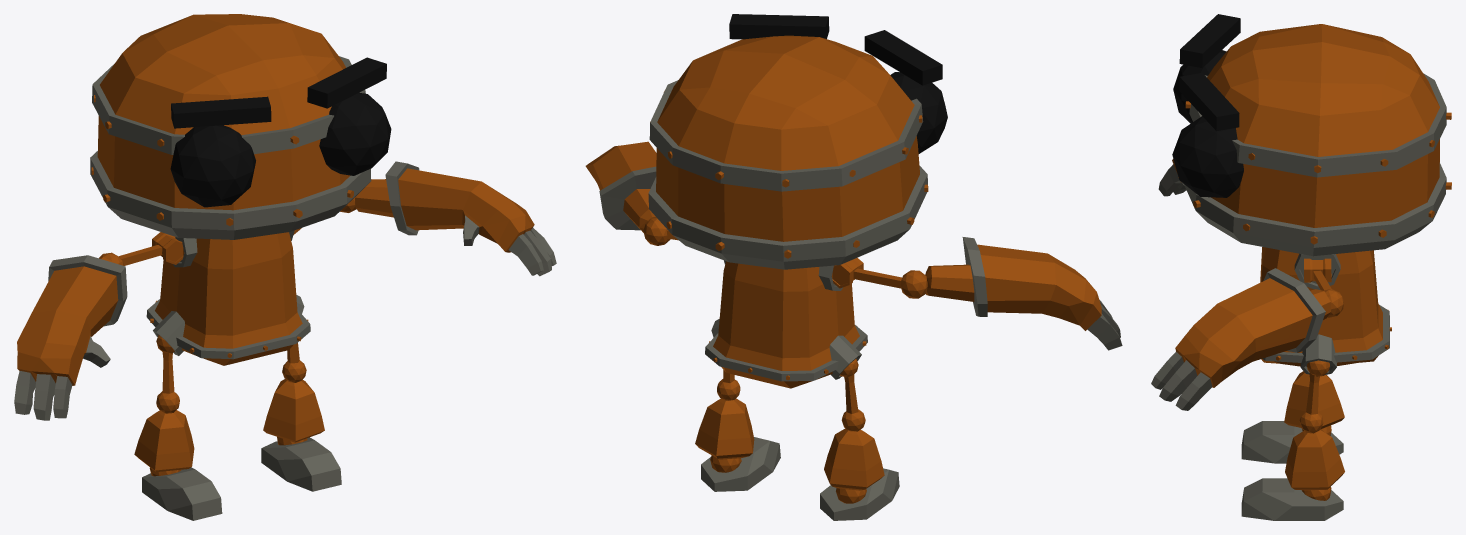
The model's file is rob3.obj.
3 renders of one model, left to right at view 1: azimuth 30°, elevation 25°; view 2: azimuth 150°, elevation 25°; view 3: azimuth 270°, elevation 25°, orthographic.
Visible parts, largest first — view 1: Head, Torso, Hand.R, Hand.L, LowerLeg.R, Foot.L, Foot.R, LowerLeg.L, Leg.R, Shoulder.R, Arm.R, Leg.L; view 2: Head, Torso, Hand.R, Hand.L, LowerLeg.R, LowerLeg.L, Foot.L, Foot.R, Arm.R, Leg.R; view 3: Head, Hand.L, Torso, Foot.L, LowerLeg.L, Foot.R, LowerLeg.R, Leg.L, Arm.L, Hand.R, Shoulder.L.
Part boxes in pixels (bbox=[...]): Head: bbox=[90, 14, 391, 239]; Torso: bbox=[146, 230, 310, 365]; Hand.R: bbox=[14, 255, 127, 420]; Hand.L: bbox=[355, 161, 556, 276]; LowerLeg.R: bbox=[134, 410, 194, 476]; Foot.L: bbox=[261, 437, 341, 491]; Foot.R: bbox=[142, 467, 222, 520]; LowerLeg.L: bbox=[263, 379, 324, 445]; Leg.R: bbox=[156, 352, 179, 413]; Shoulder.R: bbox=[152, 232, 184, 264]; Arm.R: bbox=[99, 245, 162, 265]; Leg.L: bbox=[282, 343, 306, 382]; Head: bbox=[648, 14, 947, 269]; Torso: bbox=[705, 260, 867, 388]; Hand.R: bbox=[925, 237, 1122, 350]; Hand.L: bbox=[585, 141, 656, 232]; LowerLeg.R: bbox=[824, 428, 884, 503]; LowerLeg.L: bbox=[695, 398, 754, 472]; Foot.L: bbox=[701, 437, 780, 491]; Foot.R: bbox=[820, 468, 899, 520]; Arm.R: bbox=[853, 268, 927, 298]; Leg.R: bbox=[841, 374, 865, 431]; Head: bbox=[1172, 14, 1451, 256]; Hand.L: bbox=[1151, 268, 1330, 410]; Torso: bbox=[1260, 247, 1391, 376]; Foot.L: bbox=[1241, 478, 1343, 520]; LowerLeg.L: bbox=[1285, 430, 1344, 500]; Foot.R: bbox=[1241, 421, 1343, 463]; LowerLeg.R: bbox=[1284, 371, 1344, 435]; Leg.L: bbox=[1299, 373, 1323, 433]; Arm.L: bbox=[1313, 270, 1343, 317]; Hand.R: bbox=[1158, 159, 1186, 196]; Shoulder.L: bbox=[1304, 258, 1331, 282].
Bounding box in the file's own units: 5.63 × 4.5 × 2.79.
